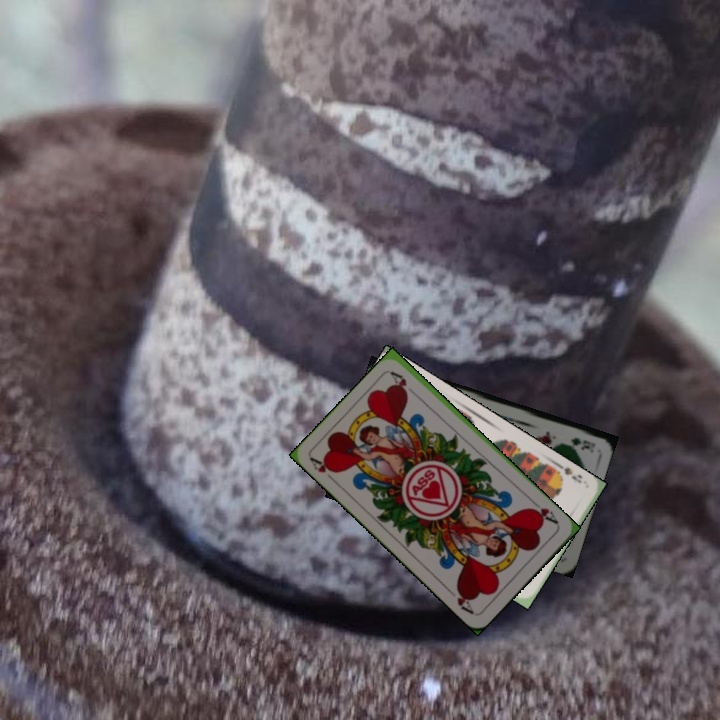GK: (567, 433, 598, 453)
HA: (307, 454, 340, 486), (526, 504, 561, 527)
S9: (549, 458, 585, 486)
